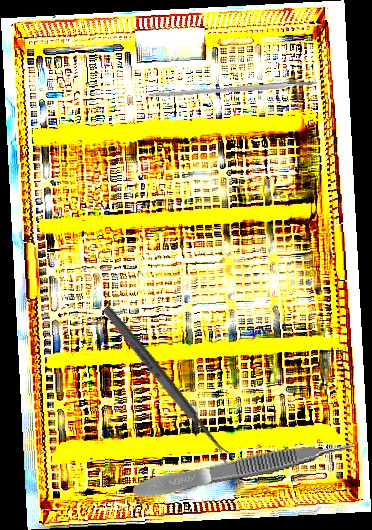Scalpel Handle: (148, 80, 318, 99)
Surgical Spoon: (100, 303, 235, 466)
Tissue Forceps: (130, 435, 359, 502)
